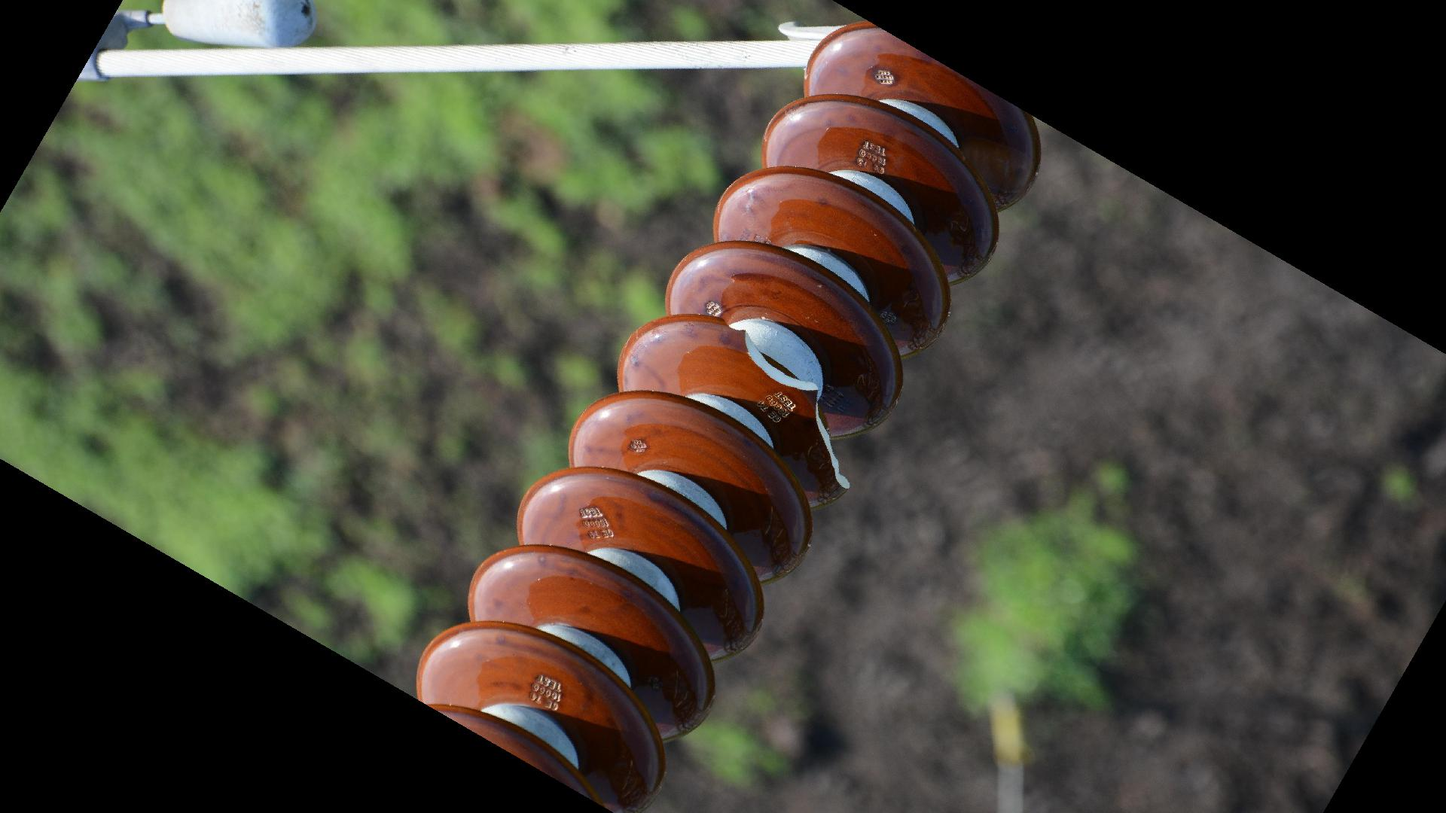insulator: (410, 19, 1051, 806)
insulator_breakage: (711, 313, 859, 503)
